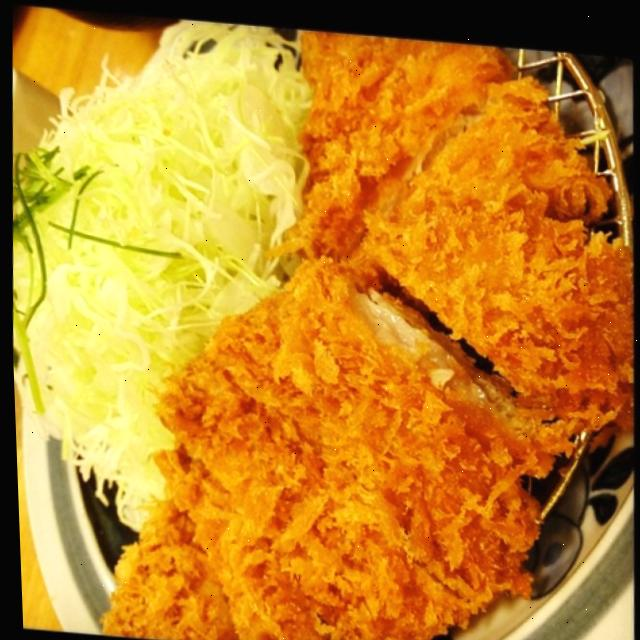鸡肉料理 含炸鸡: (18, 9, 633, 640)
